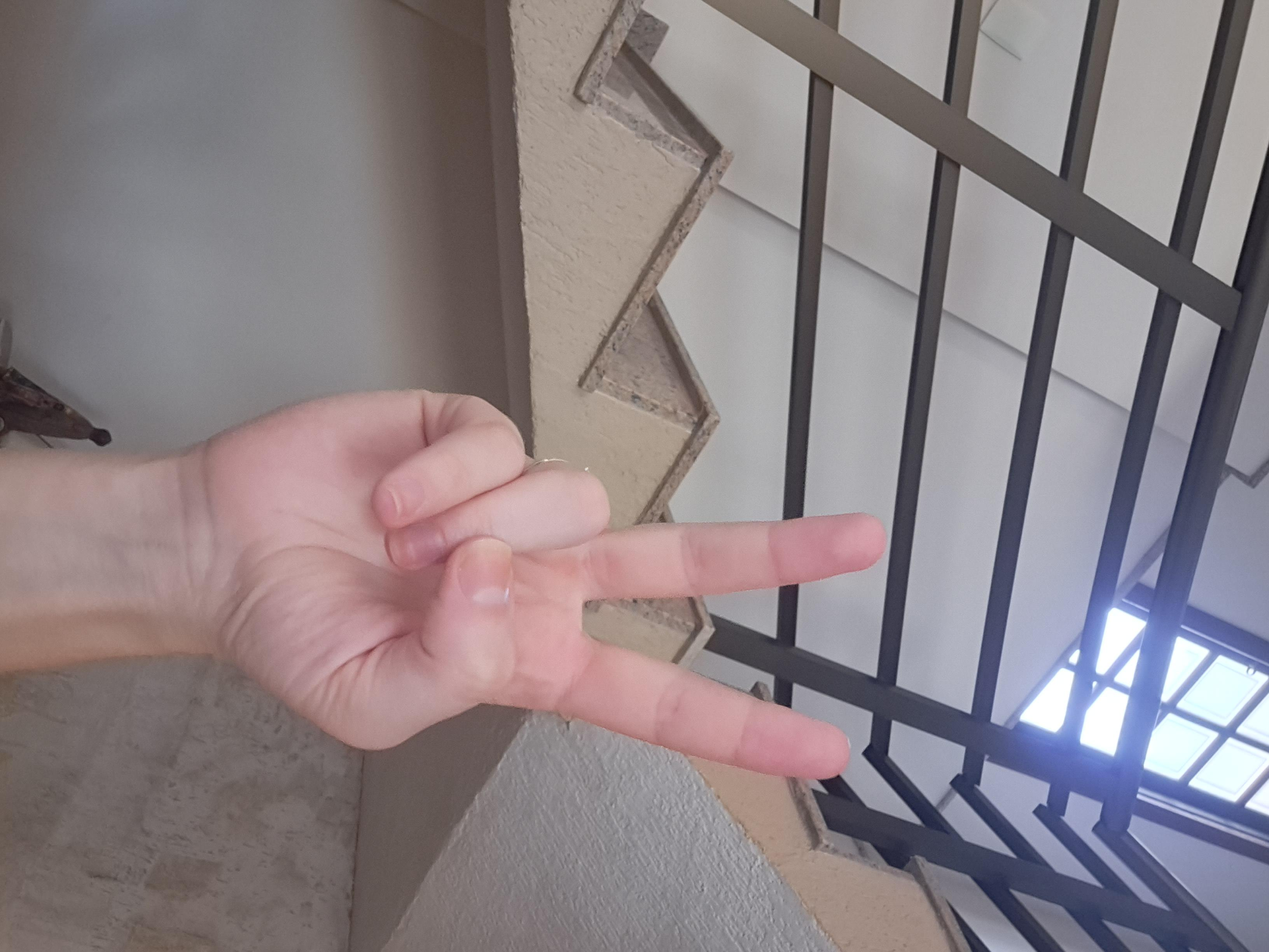V: (513, 262, 1052, 825)
